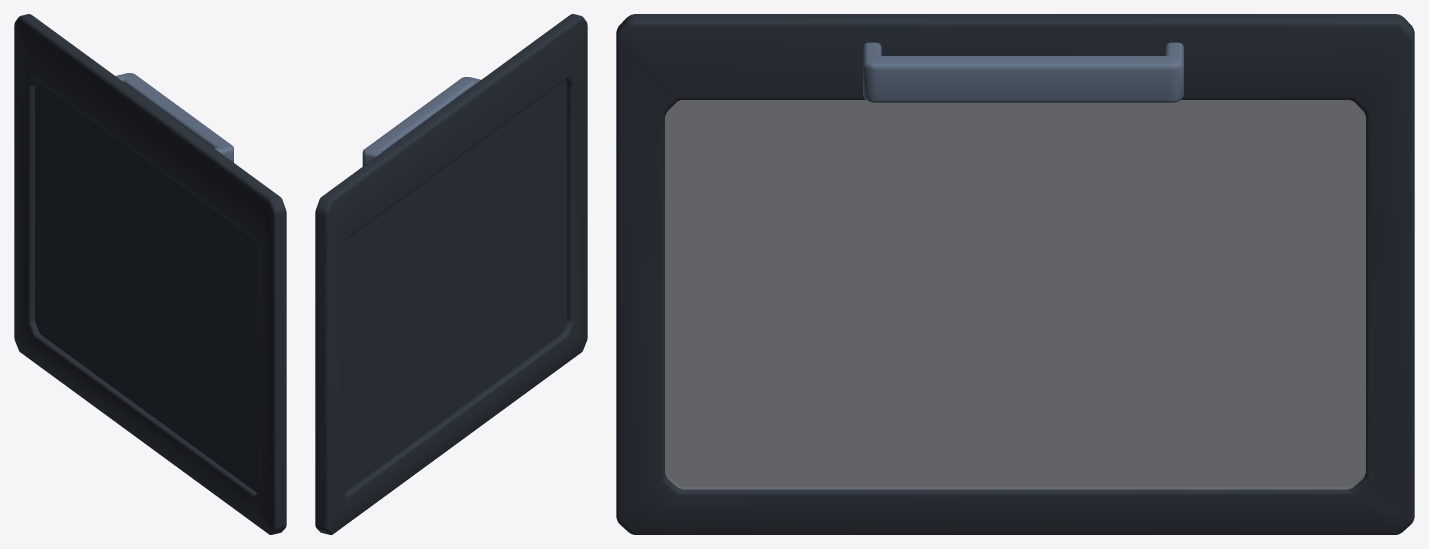
Rendered from Item_007.fbx.
3 renders of one model, left to right at view 1: azimuth 30°, elevation 25°; view 2: azimuth 150°, elevation 25°; view 3: azimuth 270°, elevation 25°, orthographic. The views are drawn at different scales.
Parts seen in each view (by area): view 1: Cube.027; view 2: Cube.027; view 3: Cube.027.
Part boxes in pixels (x1=…): Cube.027: x1=14, y1=14, x2=286, y2=534; Cube.027: x1=315, y1=14, x2=587, y2=534; Cube.027: x1=616, y1=14, x2=1414, y2=534.
Bounding box in the file's own units: 30.45 × 225 × 316.
